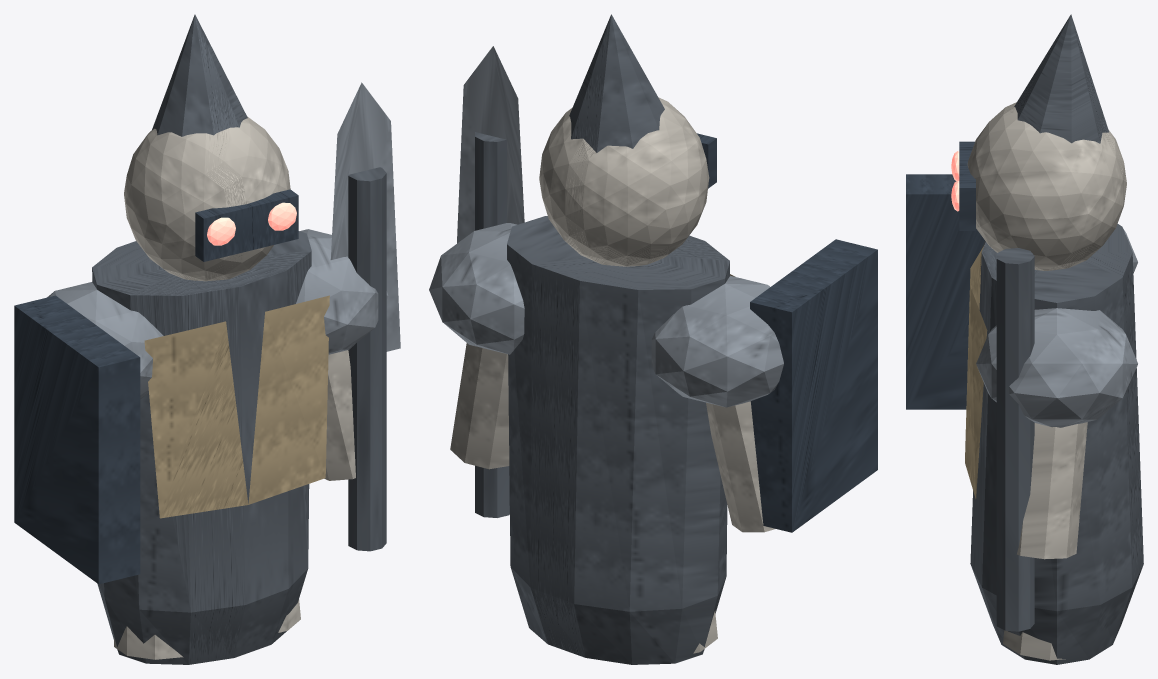
Rendered from undead_knight.glb.
The picture shows the model from 3 angles, left to right: view 1: azimuth 30°, elevation 25°; view 2: azimuth 150°, elevation 25°; view 3: azimuth 270°, elevation 25°; orthographic projection. The views are drawn at different scales.
Visible parts, largest first — view 1: iron, blackiron, gold, bone, steel, glowred; view 2: iron, bone, blackiron, steel; view 3: iron, bone, blackiron, steel, gold, glowred.
Part boxes in pixels (bbox=[...]): iron: bbox=[92, 14, 386, 664]; blackiron: bbox=[14, 189, 298, 584]; gold: bbox=[144, 295, 329, 518]; bone: bbox=[114, 116, 355, 659]; steel: bbox=[47, 82, 400, 399]; glowred: bbox=[207, 202, 296, 245]; iron: bbox=[475, 14, 729, 664]; bone: bbox=[450, 97, 775, 653]; blackiron: bbox=[697, 133, 877, 532]; steel: bbox=[429, 46, 783, 407]; iron: bbox=[970, 14, 1143, 664]; bone: bbox=[967, 102, 1126, 660]; blackiron: bbox=[906, 141, 984, 409]; steel: bbox=[976, 229, 1137, 427]; gold: bbox=[965, 245, 987, 498]; glowred: bbox=[951, 151, 959, 211].
Bounding box in the file's own units: 1.48 × 2.41 × 0.85.
6 materials, 6 textured.
